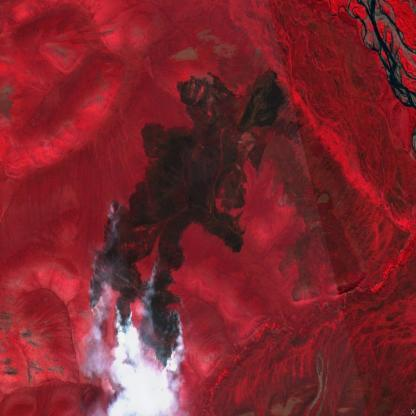fire: (86, 196, 185, 376)
